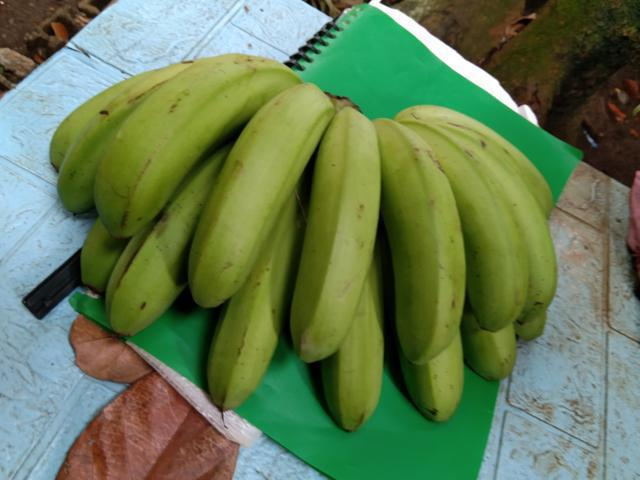freshunripe: (180, 71, 334, 304), (286, 104, 385, 359), (199, 269, 294, 424), (311, 273, 393, 431)
unripe: (86, 40, 290, 238), (358, 103, 463, 365), (418, 112, 531, 335), (94, 186, 186, 338), (396, 338, 479, 430)
